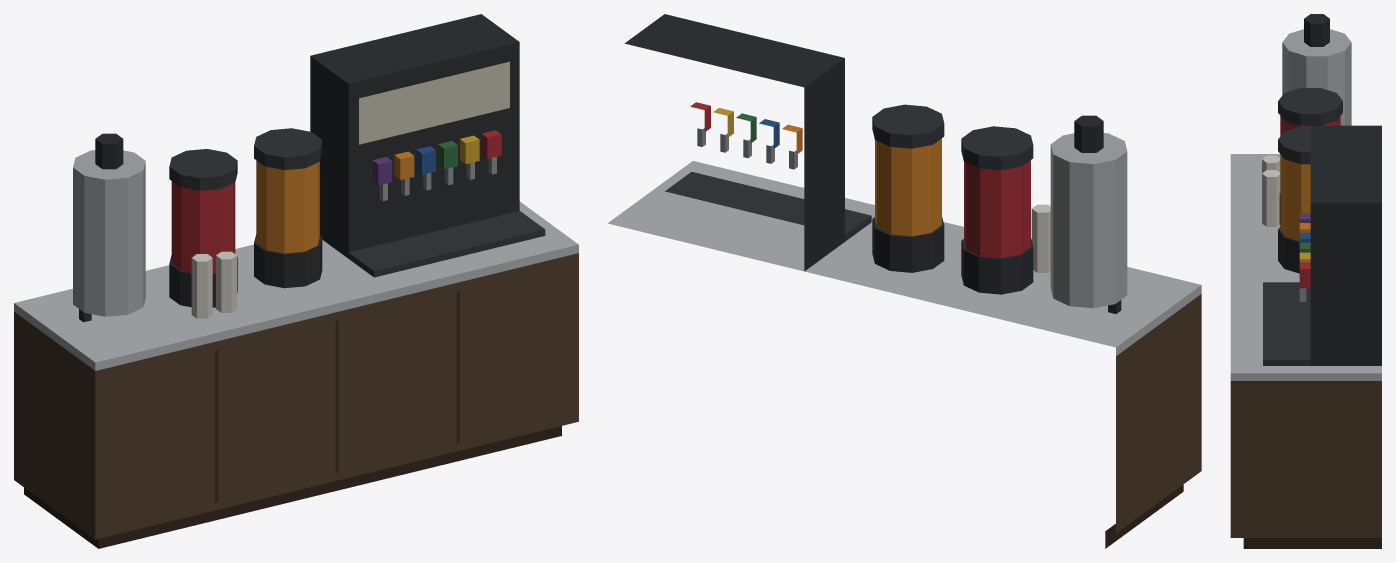
File: shop.drink_station.oak.glb
3 views of the same model, side by side, from view 1: azimuth 30°, elevation 25°; view 2: azimuth 150°, elevation 25°; view 3: azimuth 270°, elevation 25° (orthographic). The views are drawn at different scales.
Parts seen in each view (by area): view 1: shop_drink_station_oak; view 2: shop_drink_station_oak; view 3: shop_drink_station_oak.
Part boxes in pixels (x1,y1,x2,y2): shop_drink_station_oak: [14, 14, 578, 548]; shop_drink_station_oak: [607, 14, 1201, 548]; shop_drink_station_oak: [1230, 14, 1381, 548].
Size of what is drawn, in the model's own units: 2.4 by 1.75 by 0.702.
